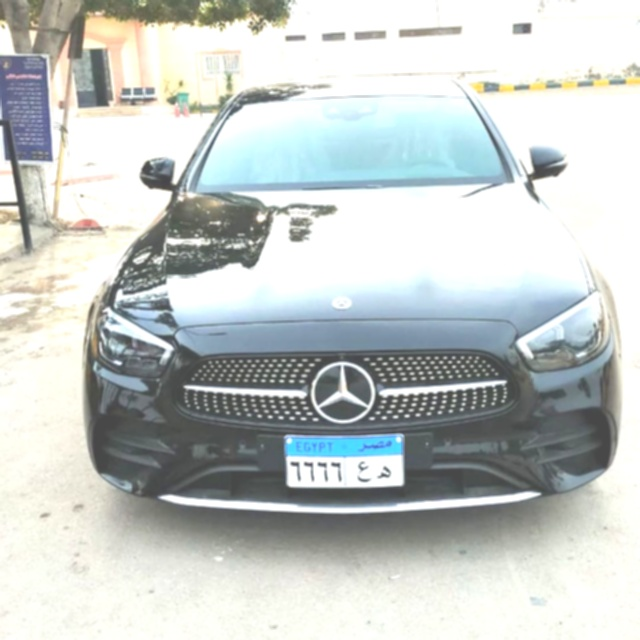License Plate: (284, 433, 406, 489)
